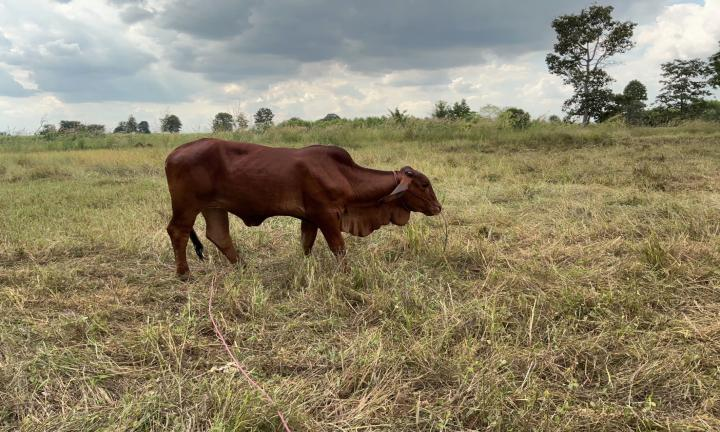Brahman: (165, 138, 441, 274)
